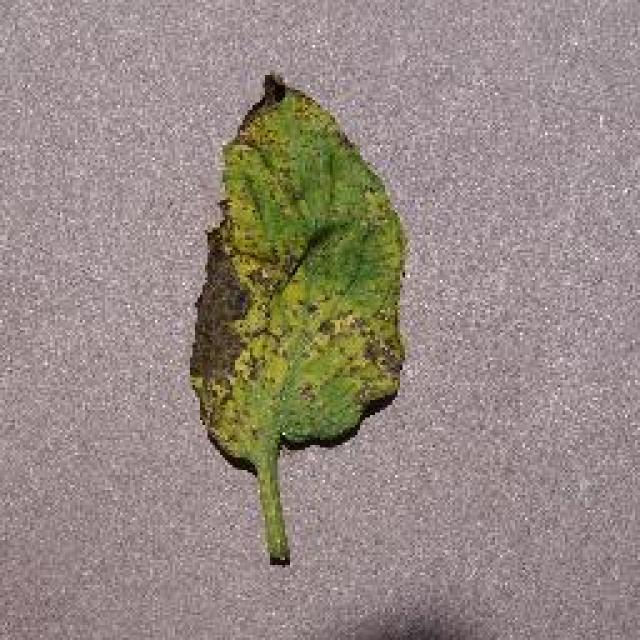Tomato___Septoria_leaf_spot: (190, 75, 405, 562)
